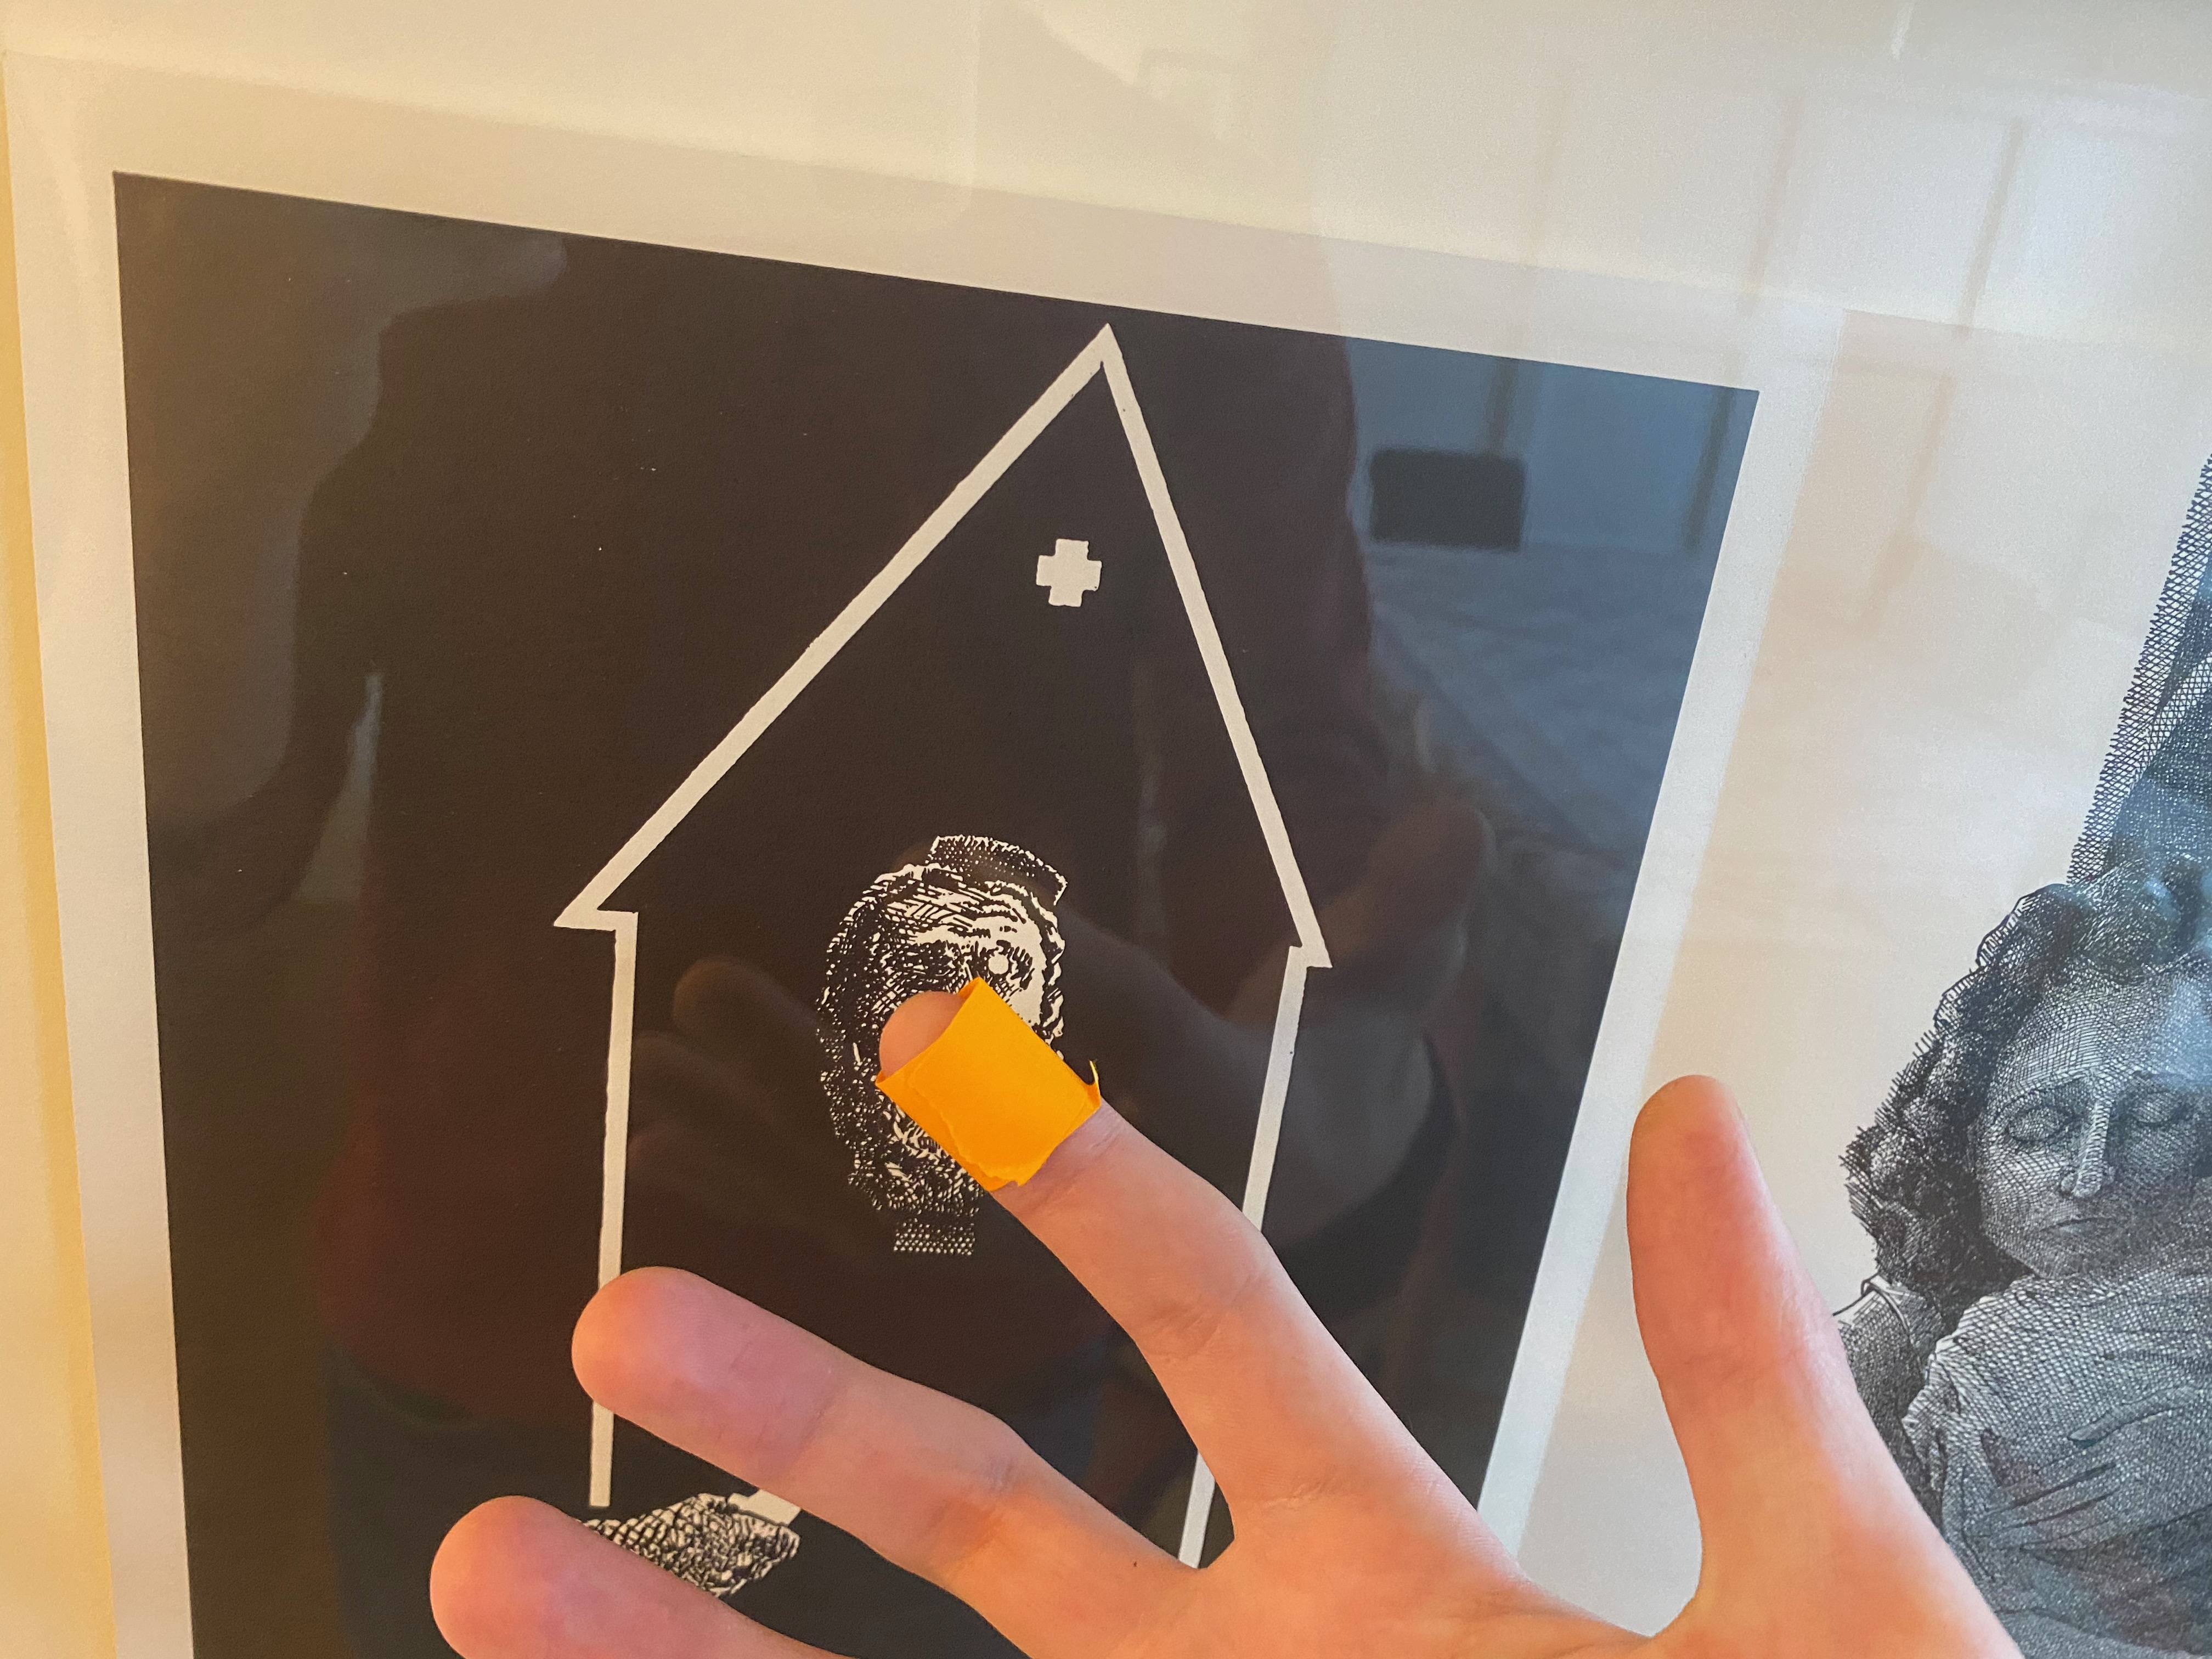fingertip: (843, 962, 1170, 1239)
